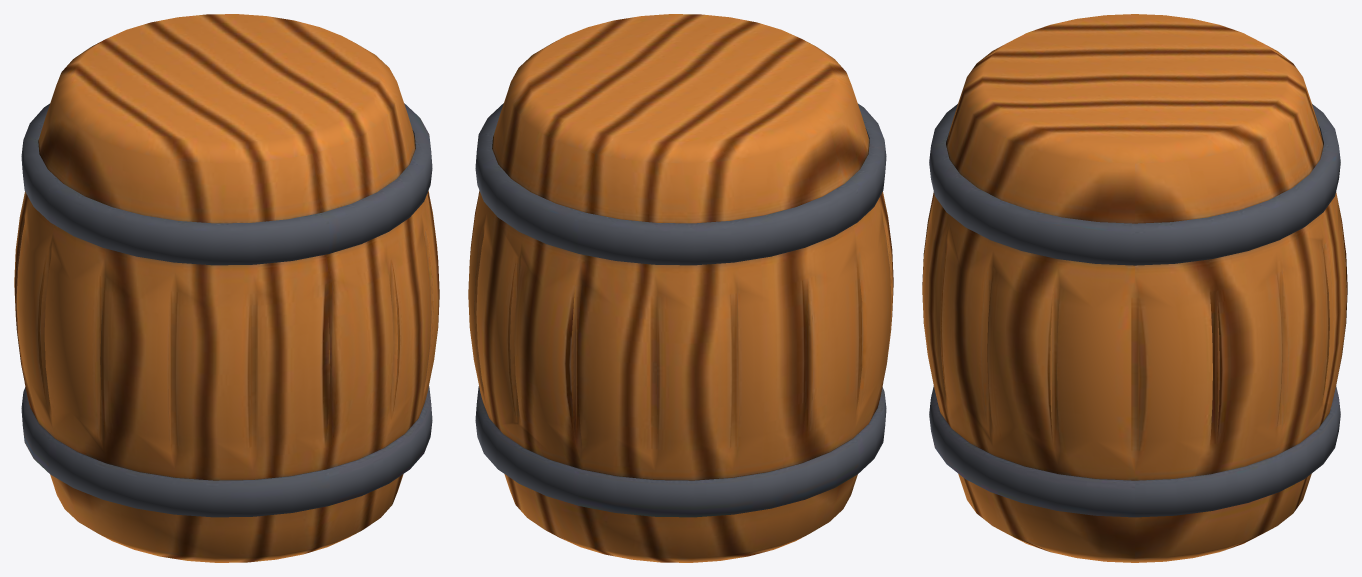
The model's file is varil.glb.
The picture shows the model from 3 angles, left to right: view 1: azimuth 30°, elevation 25°; view 2: azimuth 150°, elevation 25°; view 3: azimuth 270°, elevation 25°; orthographic projection.
Visible parts, largest first — view 1: varil; view 2: varil; view 3: varil.
Part boxes in pixels (bbox=[...]): varil: bbox=[14, 14, 439, 562]; varil: bbox=[468, 14, 893, 562]; varil: bbox=[922, 14, 1347, 562].
Size of the model in its own units: 0.9184 by 1 by 0.9184.
2 materials, 2 textured.
